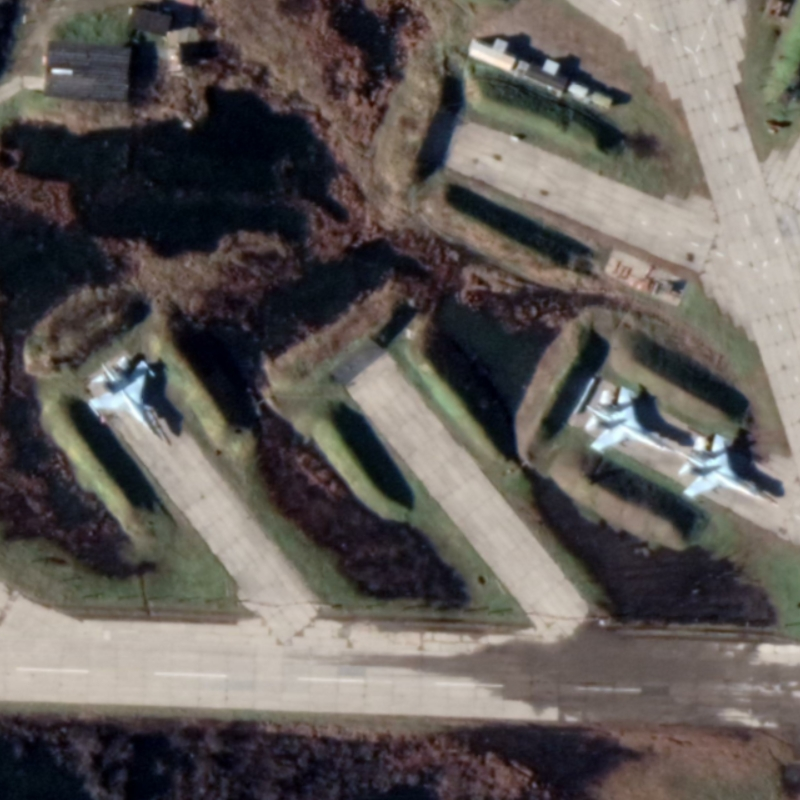A1: (674, 431, 782, 510), (84, 355, 168, 445), (578, 383, 676, 460)
